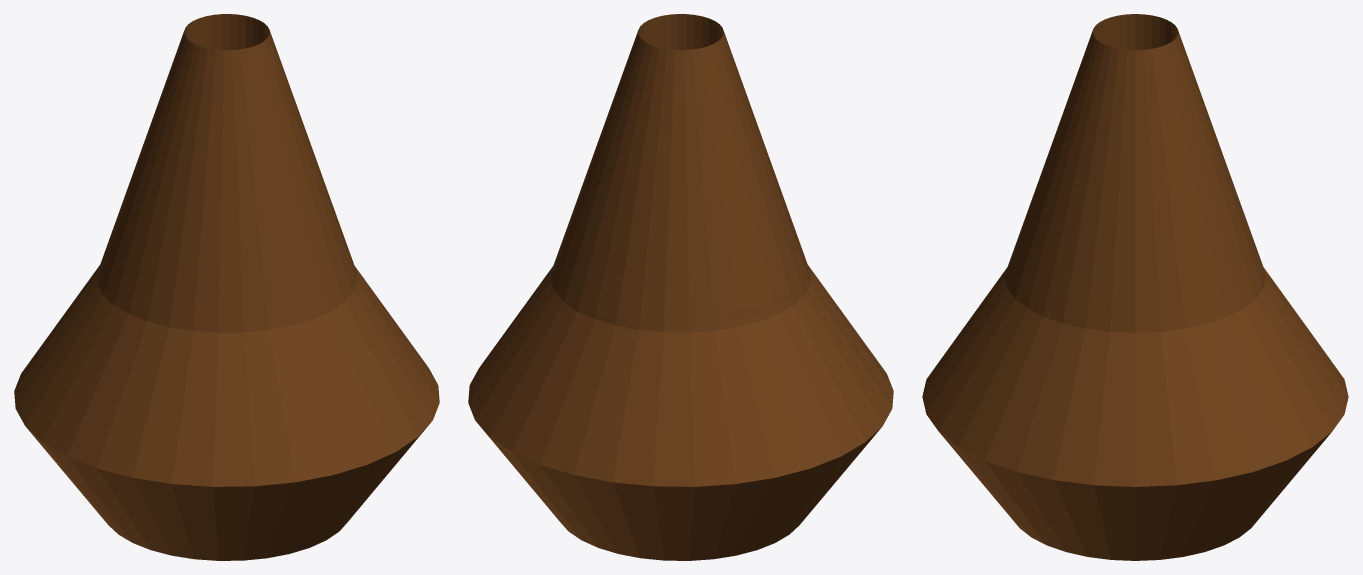
Rendered from vase 1.fbx.
3 views of the same model, side by side, from view 1: azimuth 30°, elevation 25°; view 2: azimuth 150°, elevation 25°; view 3: azimuth 270°, elevation 25° (orthographic).
Visible parts, largest first — view 1: Cube; view 2: Cube; view 3: Cube.
Part boxes in pixels (x1,y1,x2,y2): Cube: (14, 14, 439, 560); Cube: (468, 14, 893, 560); Cube: (922, 14, 1348, 560).
Bounding box in the file's own units: 102 × 126 × 102.
